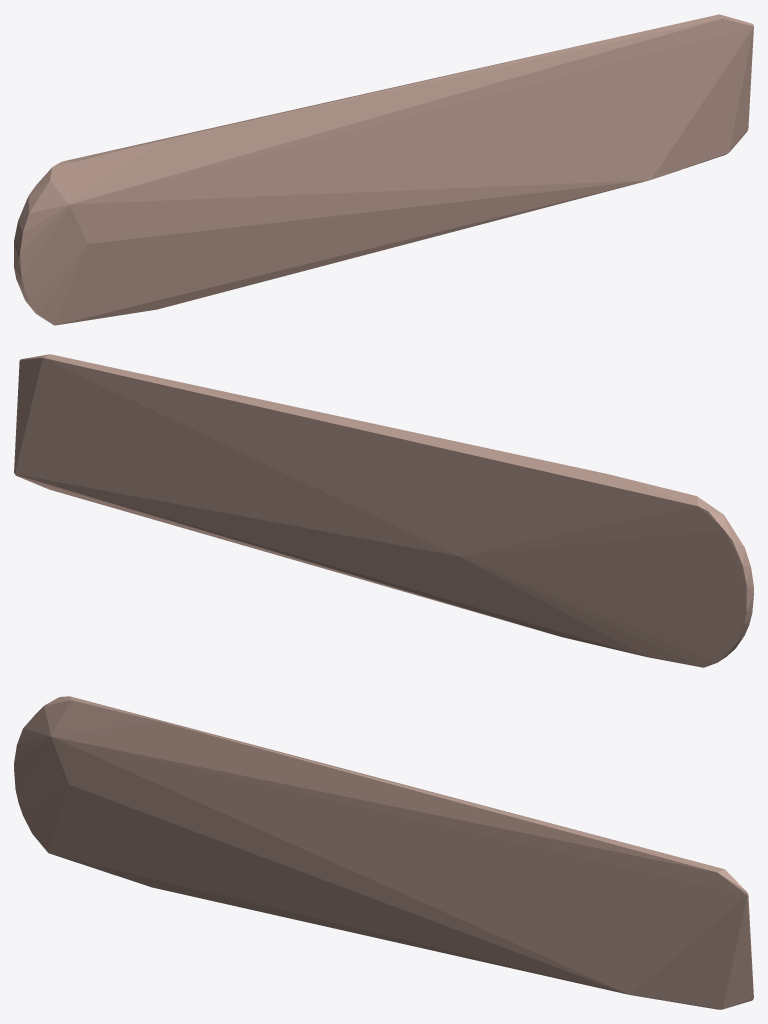
File: handTool_wrench_armorers_a01.glb
3 renders of one model, top to bottom at view 1: azimuth 30°, elevation 25°; view 2: azimuth 150°, elevation 25°; view 3: azimuth 330°, elevation 25°, orthographic.
Parts seen in each view (by area): view 1: geometry_0; view 2: geometry_0; view 3: geometry_0.
Part boxes in pixels (x1,y1,x2,y2): geometry_0: (14, 14, 753, 325); geometry_0: (14, 354, 753, 667); geometry_0: (14, 696, 753, 1009).
Bounding box in the file's own units: 0.48 × 0.1052 × 0.0191.
